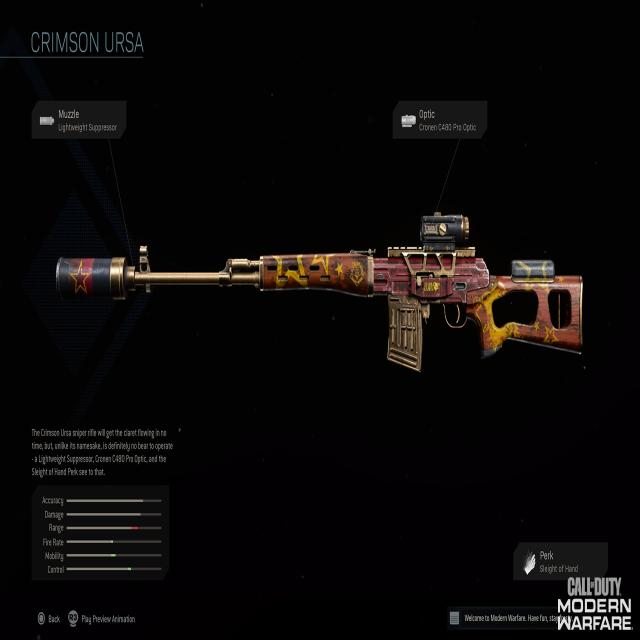Rifle: (56, 212, 583, 372)
